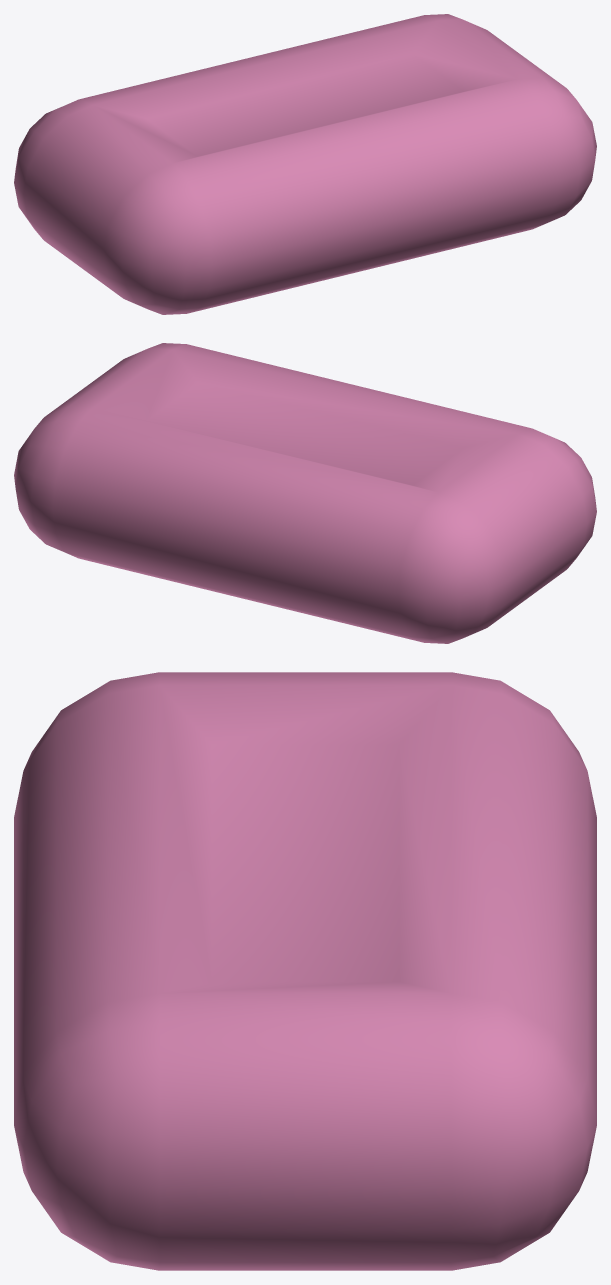
3 renders of one model, top to bottom at view 1: azimuth 30°, elevation 25°; view 2: azimuth 150°, elevation 25°; view 3: azimuth 270°, elevation 25°, orthographic. The views are drawn at different scales.
Parts seen in each view (by area): view 1: Roundcube; view 2: Roundcube; view 3: Roundcube.
Part boxes in pixels (x1,y1,x2,y2): Roundcube: (14,14,596,314); Roundcube: (14,343,596,643); Roundcube: (14,672,596,1270).
Bounding box in the file's own units: 7 × 2 × 4.
